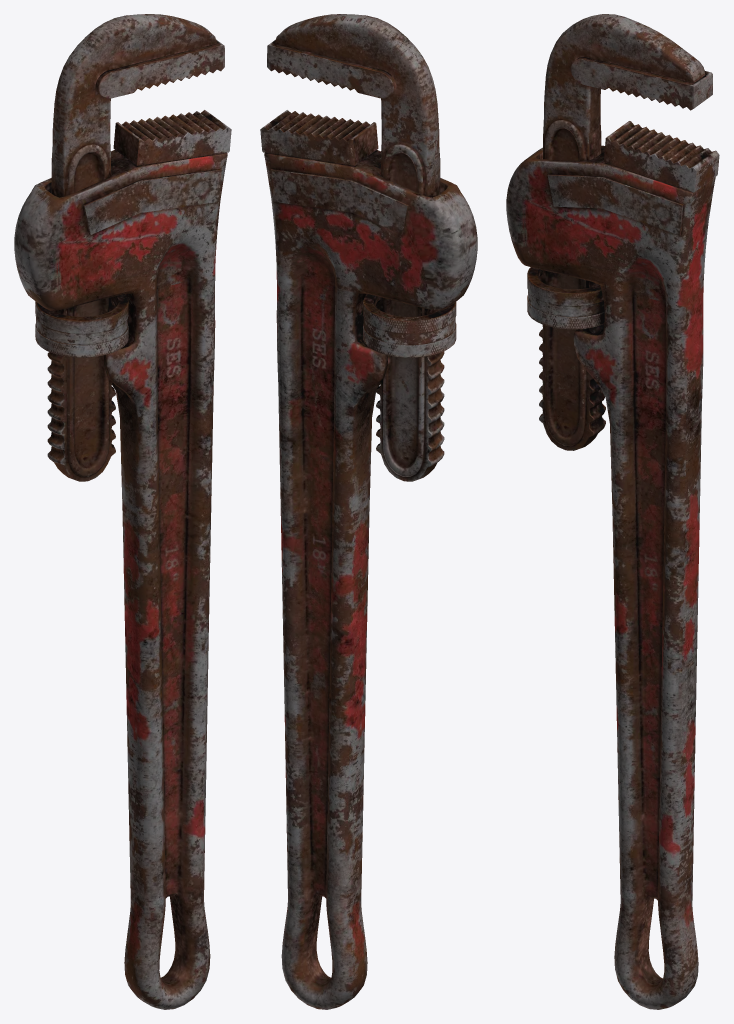
The model's file is pipe_wrench.glb.
3 views of the same model, side by side, from view 1: azimuth 30°, elevation 25°; view 2: azimuth 150°, elevation 25°; view 3: azimuth 330°, elevation 25° (orthographic).
Parts seen in each view (by area): view 1: pipe_wrench; view 2: pipe_wrench; view 3: pipe_wrench.
Part boxes in pixels (x1,y1,x2,y2): pipe_wrench: (14, 14, 231, 1009); pipe_wrench: (260, 14, 477, 1009); pipe_wrench: (506, 14, 719, 1009).
Bounding box in the file's own units: 0.084 × 0.4047 × 0.0343.
Materials: 1 (1 with a texture image).
